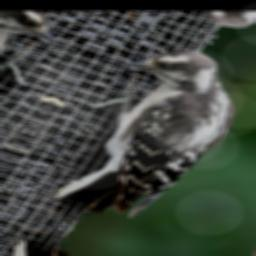Woodpecker: (16, 34, 256, 237)
